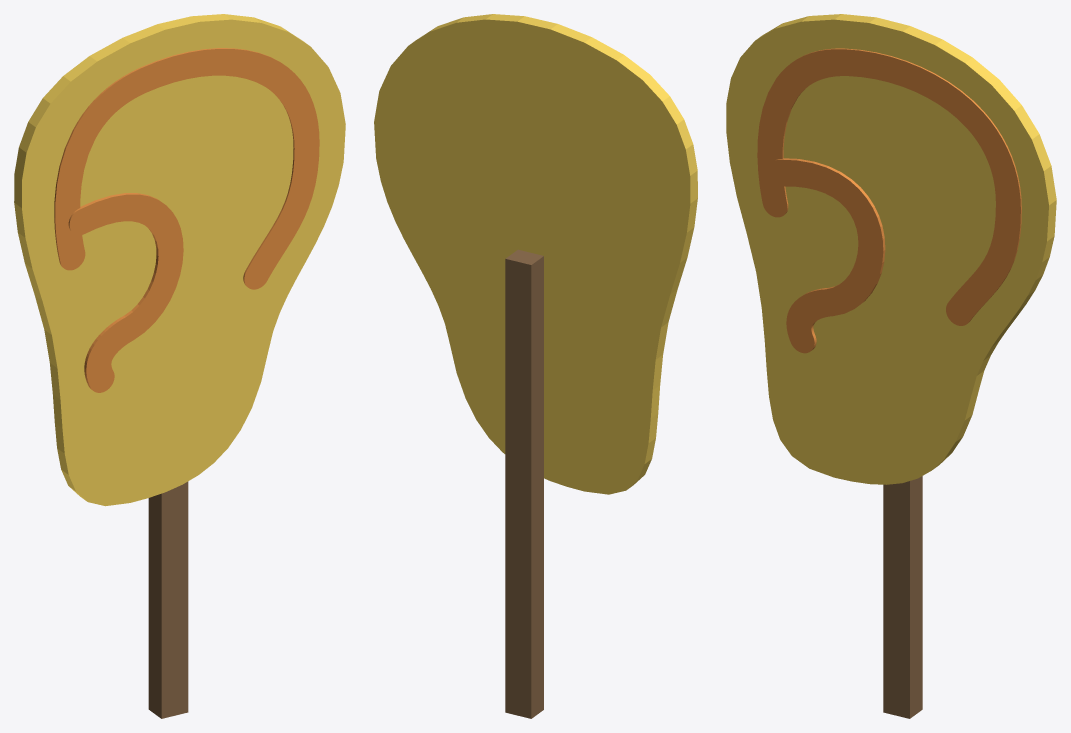
File: oreille.glb
3 views of the same model, side by side, from view 1: azimuth 30°, elevation 25°; view 2: azimuth 150°, elevation 25°; view 3: azimuth 330°, elevation 25° (orthographic). The views are drawn at different scales.
Size of the model in its own units: 0.7296 by 1.5 by 0.093.
